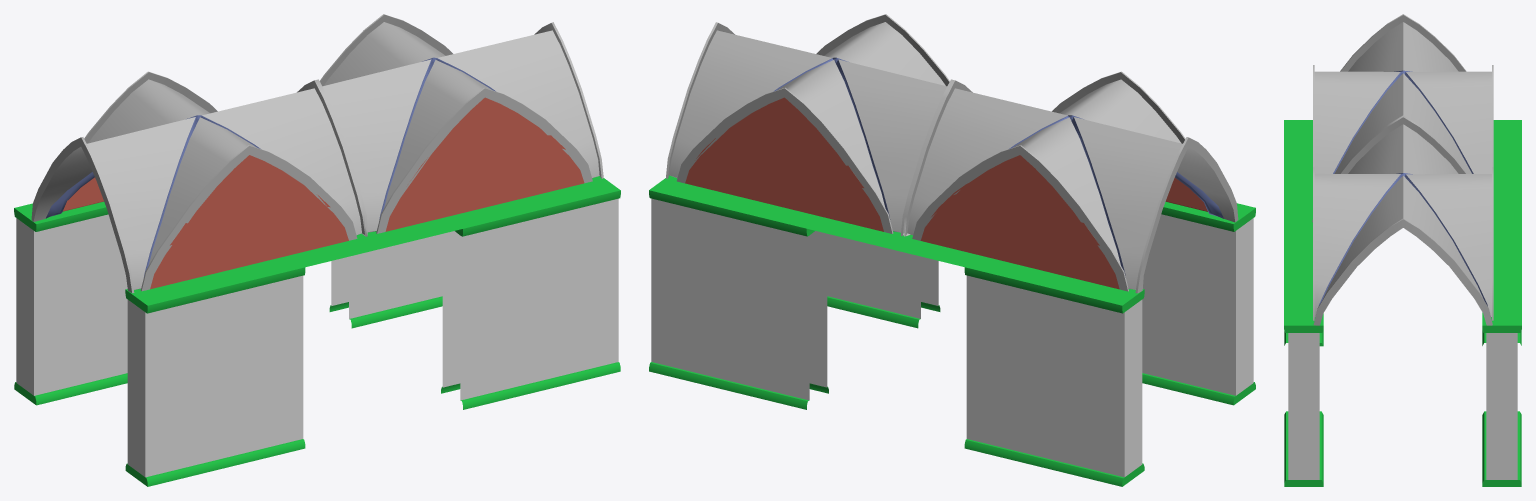
Rendered from Basic Hallway 03C_NF.fbx.
3 views of the same model, side by side, from view 1: azimuth 30°, elevation 25°; view 2: azimuth 150°, elevation 25°; view 3: azimuth 270°, elevation 25° (orthographic). The views are drawn at different scales.
Visible parts, largest first — view 1: Plane_001; view 2: Plane_001; view 3: Plane_001.
Part boxes in pixels (left/top/right/bottom): Plane_001: left=14, top=14, right=620, bottom=486; Plane_001: left=649, top=14, right=1255, bottom=486; Plane_001: left=1284, top=14, right=1521, bottom=486.
Bounding box in the file's own units: 1262 × 764 × 615.
